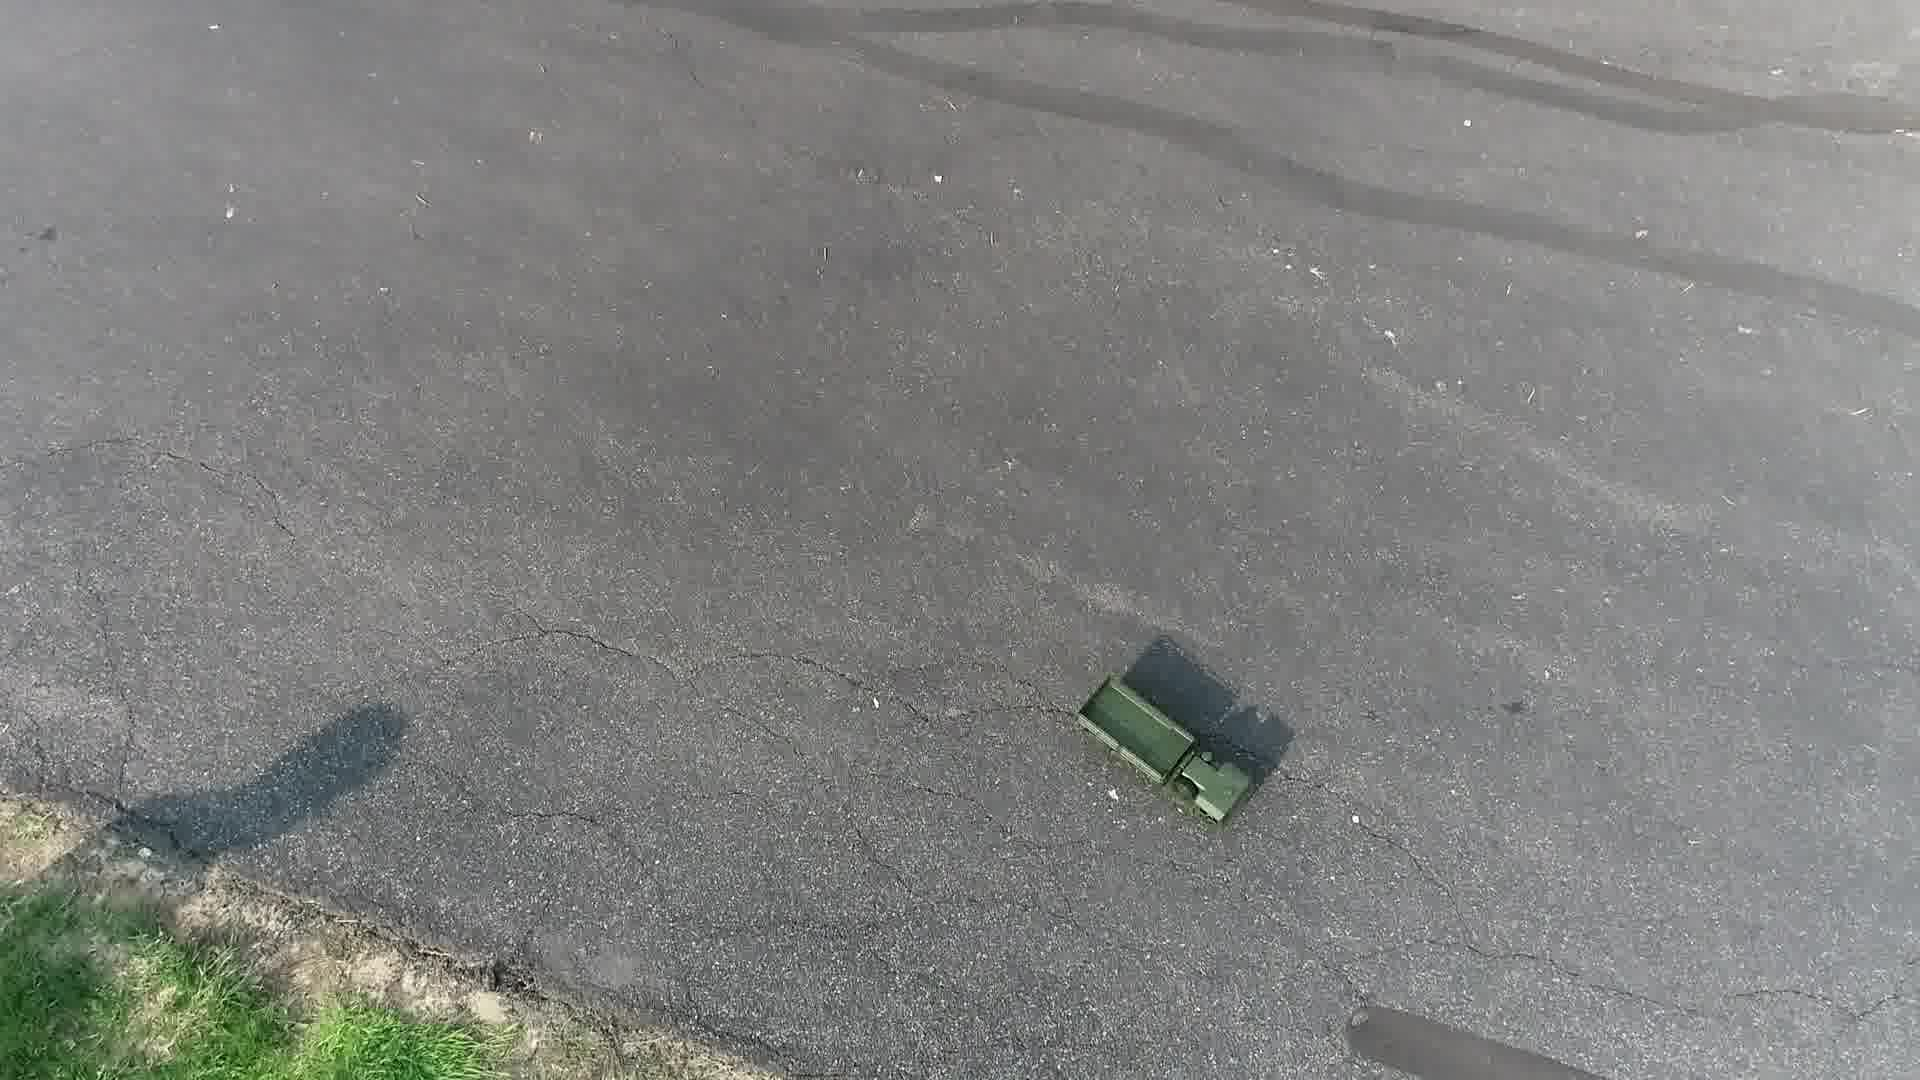transporter9: (1075, 667, 1262, 827)
